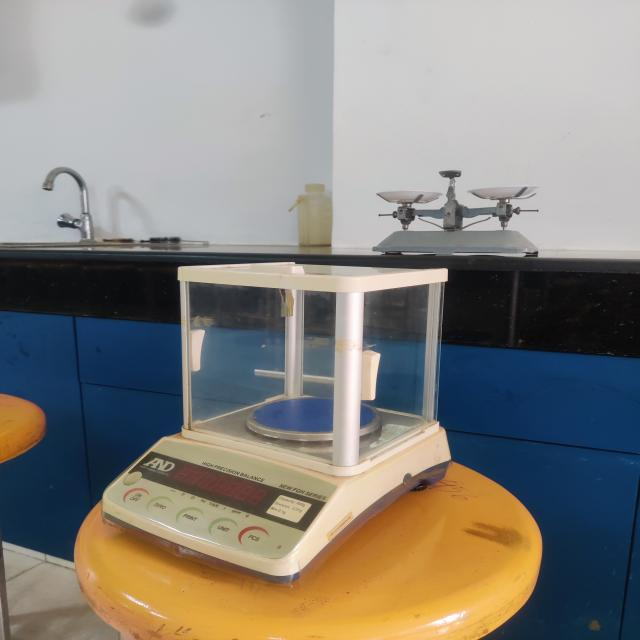Mechanical_Balance_Scale: (350, 158, 558, 259)
Precision_Weight_Scale: (61, 259, 485, 614)
